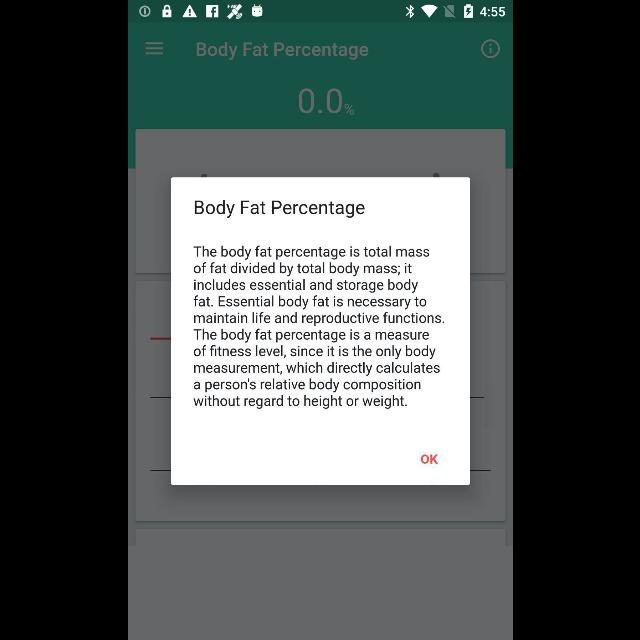icon: (480, 39, 500, 59), (145, 42, 163, 56)
panel: (170, 178, 470, 484)
text: (192, 245, 444, 409), (193, 200, 364, 218), (195, 44, 368, 60), (298, 88, 354, 115), (420, 454, 438, 464)
uppertaskbar: (128, 1, 512, 23)
